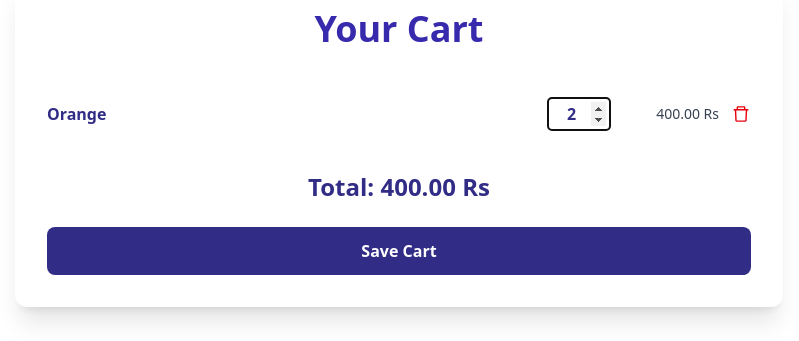
Test: cart quantity box › does not save a half-typed value like an empty box or 0, and does not disturb the typing
The width and height of the screenshot is (799, 341).
Clear the number field named "Quantity of Orange" at (579, 114), box [547, 97, 611, 131]
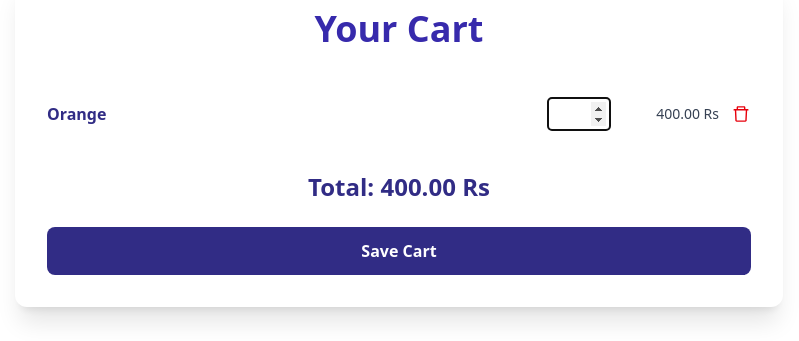
Type "0" into the number field named "Quantity of Orange" at (579, 114), box [547, 97, 611, 131]
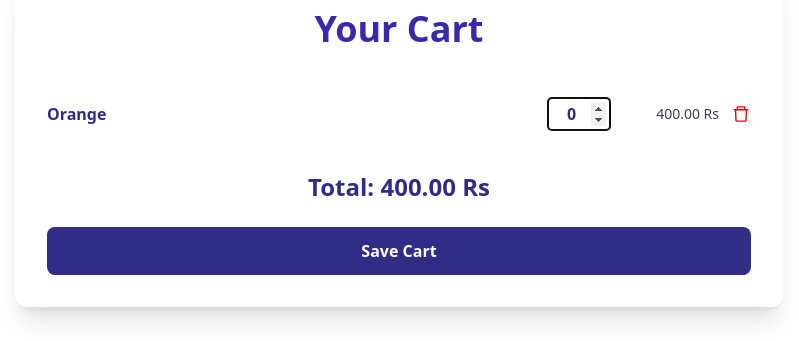
Press Tab
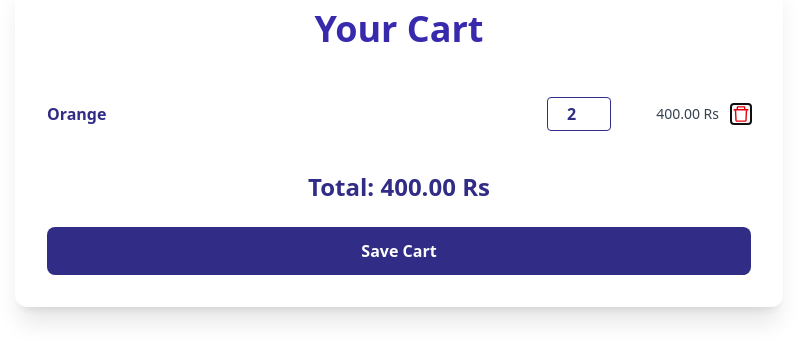
Expected: the number field named "Quantity of Orange" holds "2", [547, 97, 611, 131]
